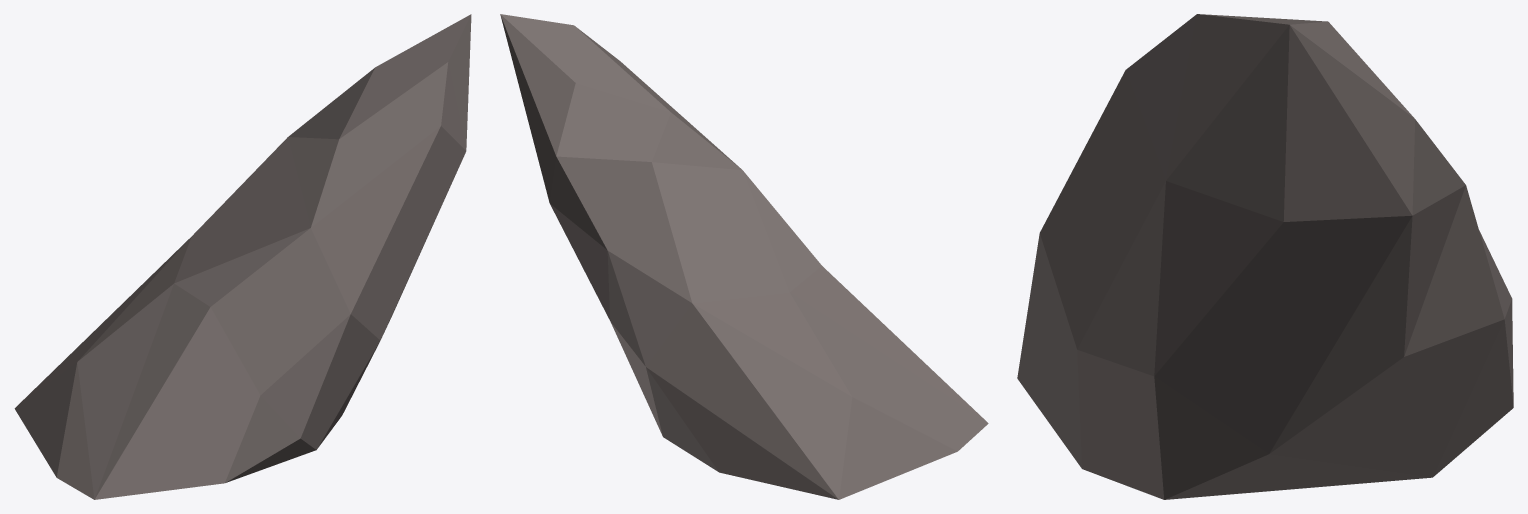
File: Rock_Sharp_m_13.fbx
3 views of the same model, side by side, from view 1: azimuth 30°, elevation 25°; view 2: azimuth 150°, elevation 25°; view 3: azimuth 270°, elevation 25° (orthographic). The views are drawn at different scales.
Parts seen in each view (by area): view 1: Rock_Sharp_m_13; view 2: Rock_Sharp_m_13; view 3: Rock_Sharp_m_13.
Boxes of the visible parts, box(x1,y1,x2,y2) form: Rock_Sharp_m_13: box(14, 14, 471, 499); Rock_Sharp_m_13: box(500, 14, 988, 499); Rock_Sharp_m_13: box(1017, 14, 1513, 499).
Bounding box in the file's own units: 176 × 133 × 94.05.
